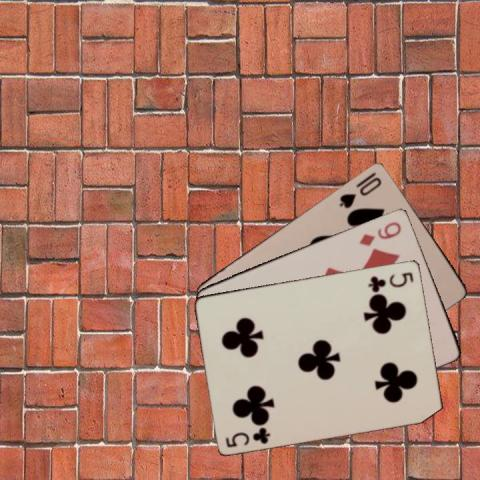10s: (337, 173, 383, 210)
5c: (223, 424, 272, 449), (366, 269, 416, 291)
9d: (356, 218, 403, 247)
